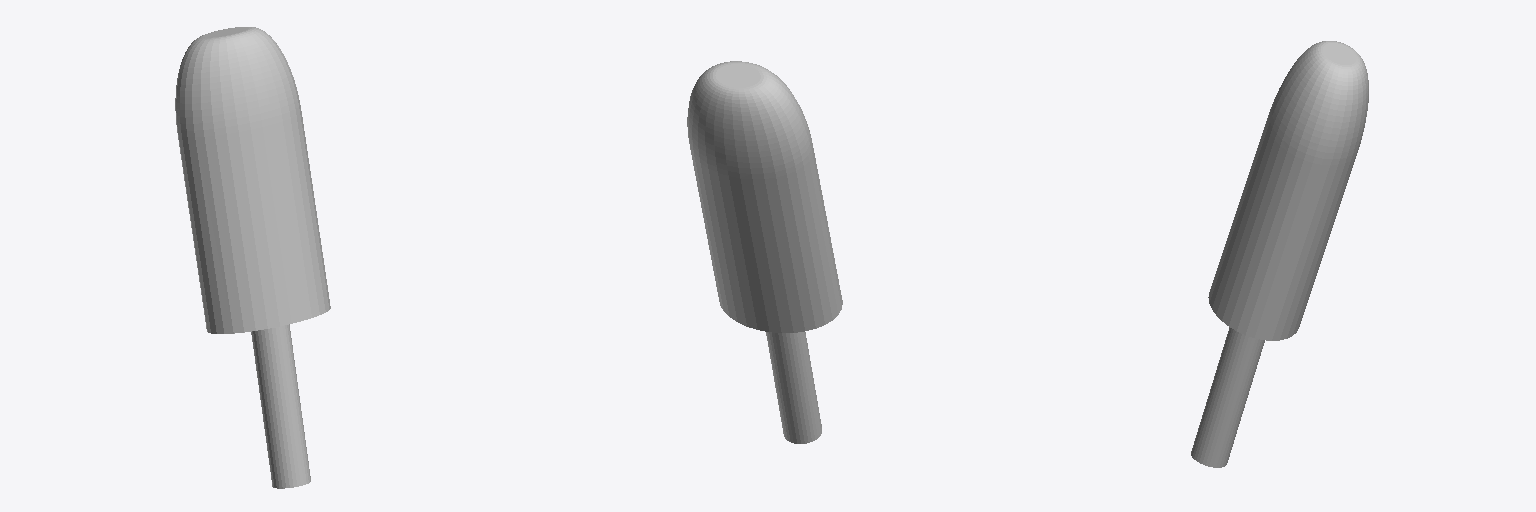
Rendered from brazo_sup_der.obj.
3 renders of one model, left to right at view 1: azimuth 30°, elevation 25°; view 2: azimuth 150°, elevation 25°; view 3: azimuth 270°, elevation 25°, orthographic.
Visible parts, largest first — view 1: brazo_sup_der1:Mesh; view 2: brazo_sup_der1:Mesh; view 3: brazo_sup_der1:Mesh.
Part boxes in pixels (x1,y1,x2,y2): brazo_sup_der1:Mesh: (175, 27, 330, 488); brazo_sup_der1:Mesh: (687, 61, 842, 443); brazo_sup_der1:Mesh: (1191, 41, 1368, 467).
Size of the model in its own units: 0.0771 by 0.2642 by 0.1033.